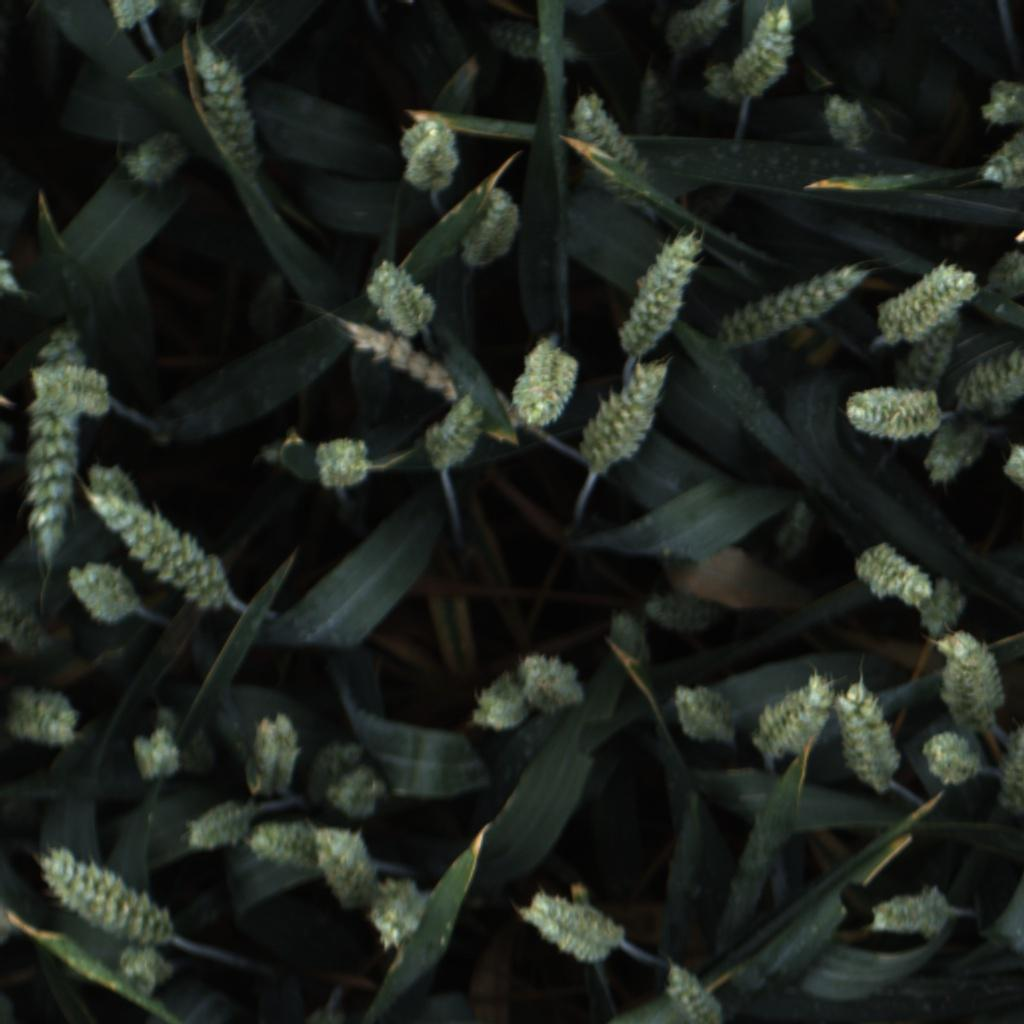0-0: (88, 485, 242, 617), (22, 325, 86, 568), (716, 261, 869, 358), (26, 843, 172, 943), (324, 315, 467, 415), (605, 226, 708, 359), (571, 79, 662, 215), (574, 358, 676, 473), (191, 43, 272, 181), (517, 885, 628, 970), (876, 257, 979, 345), (828, 678, 902, 796), (747, 669, 835, 767), (930, 630, 1006, 729), (728, 3, 800, 106), (504, 340, 578, 436), (840, 379, 943, 444), (311, 823, 385, 913), (363, 255, 445, 334), (956, 334, 1024, 425), (9, 685, 97, 754), (394, 117, 465, 196), (458, 187, 527, 268), (863, 882, 953, 944), (658, 955, 737, 1024), (367, 872, 434, 952), (419, 397, 489, 473), (61, 559, 134, 630), (915, 422, 990, 491), (244, 707, 302, 796), (814, 87, 884, 160), (22, 364, 110, 421), (79, 452, 145, 525), (518, 647, 592, 710), (308, 430, 378, 496), (178, 795, 250, 859), (669, 683, 738, 748), (855, 542, 925, 606), (919, 731, 981, 798), (248, 815, 320, 872), (495, 26, 589, 69), (641, 588, 723, 636), (119, 131, 189, 187), (114, 941, 182, 997), (663, 4, 731, 60), (465, 669, 524, 733), (329, 763, 389, 825), (902, 324, 957, 389), (631, 63, 680, 135), (310, 736, 361, 805), (128, 726, 184, 788), (602, 606, 653, 667), (989, 718, 1024, 806), (979, 124, 1024, 191), (774, 499, 821, 561), (974, 76, 1024, 129), (918, 581, 967, 635), (987, 241, 1024, 299), (106, 0, 162, 33), (699, 64, 740, 104), (0, 585, 28, 643), (11, 616, 49, 657), (998, 437, 1024, 492), (1, 255, 22, 300), (173, 0, 206, 20)
